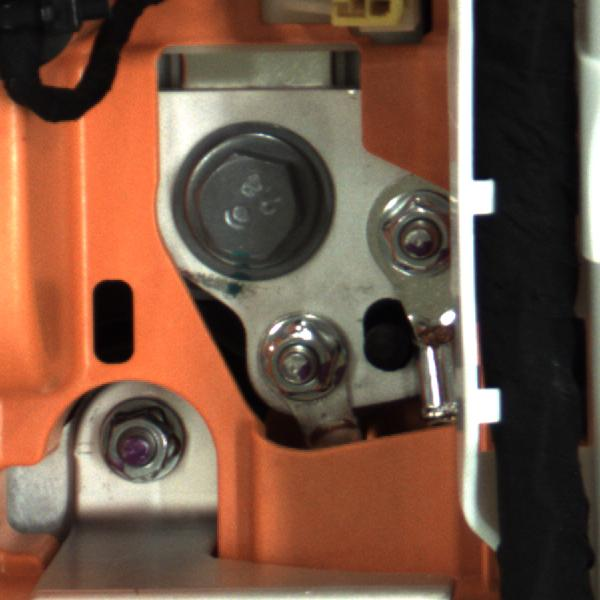nut_b: (146, 129, 355, 282)
screw_s: (259, 313, 353, 418), (98, 395, 197, 486), (378, 189, 459, 274)
